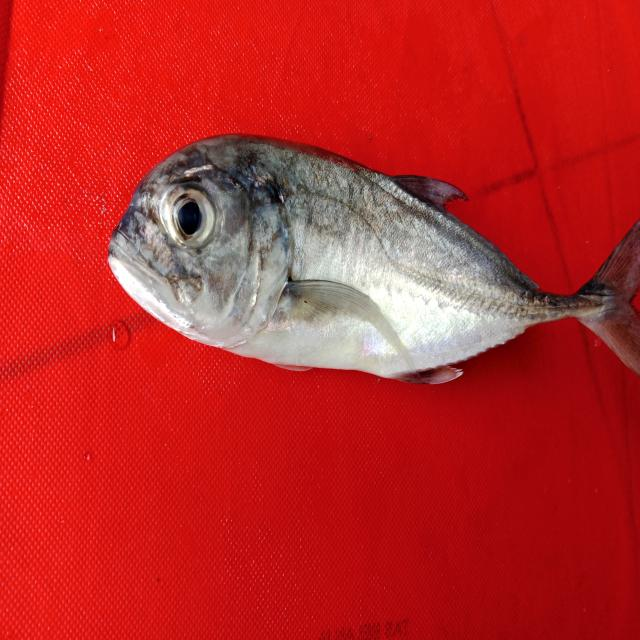ikan: (89, 99, 627, 422)
